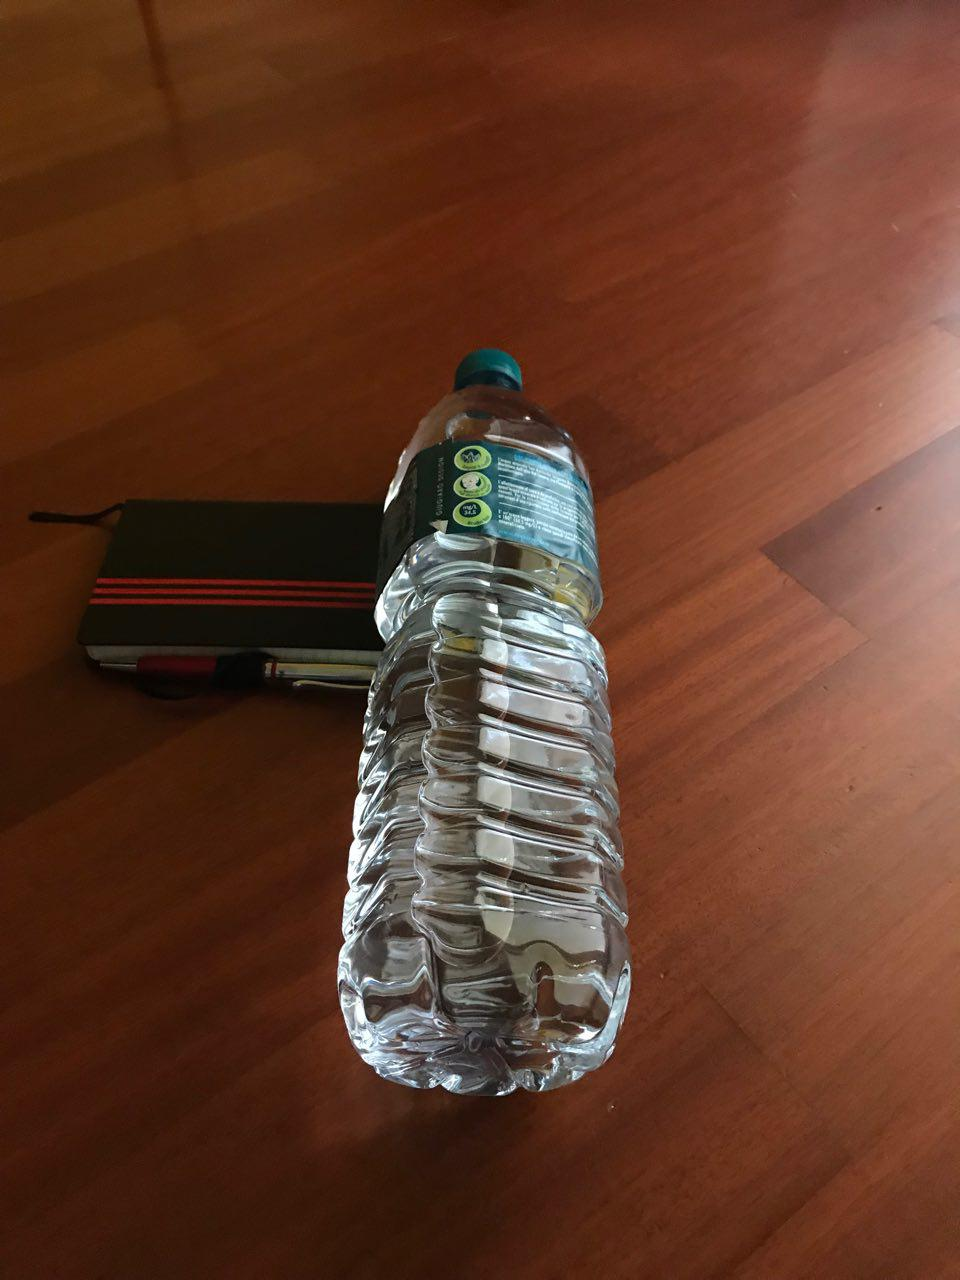san_bernardo: (332, 346, 635, 1098)
